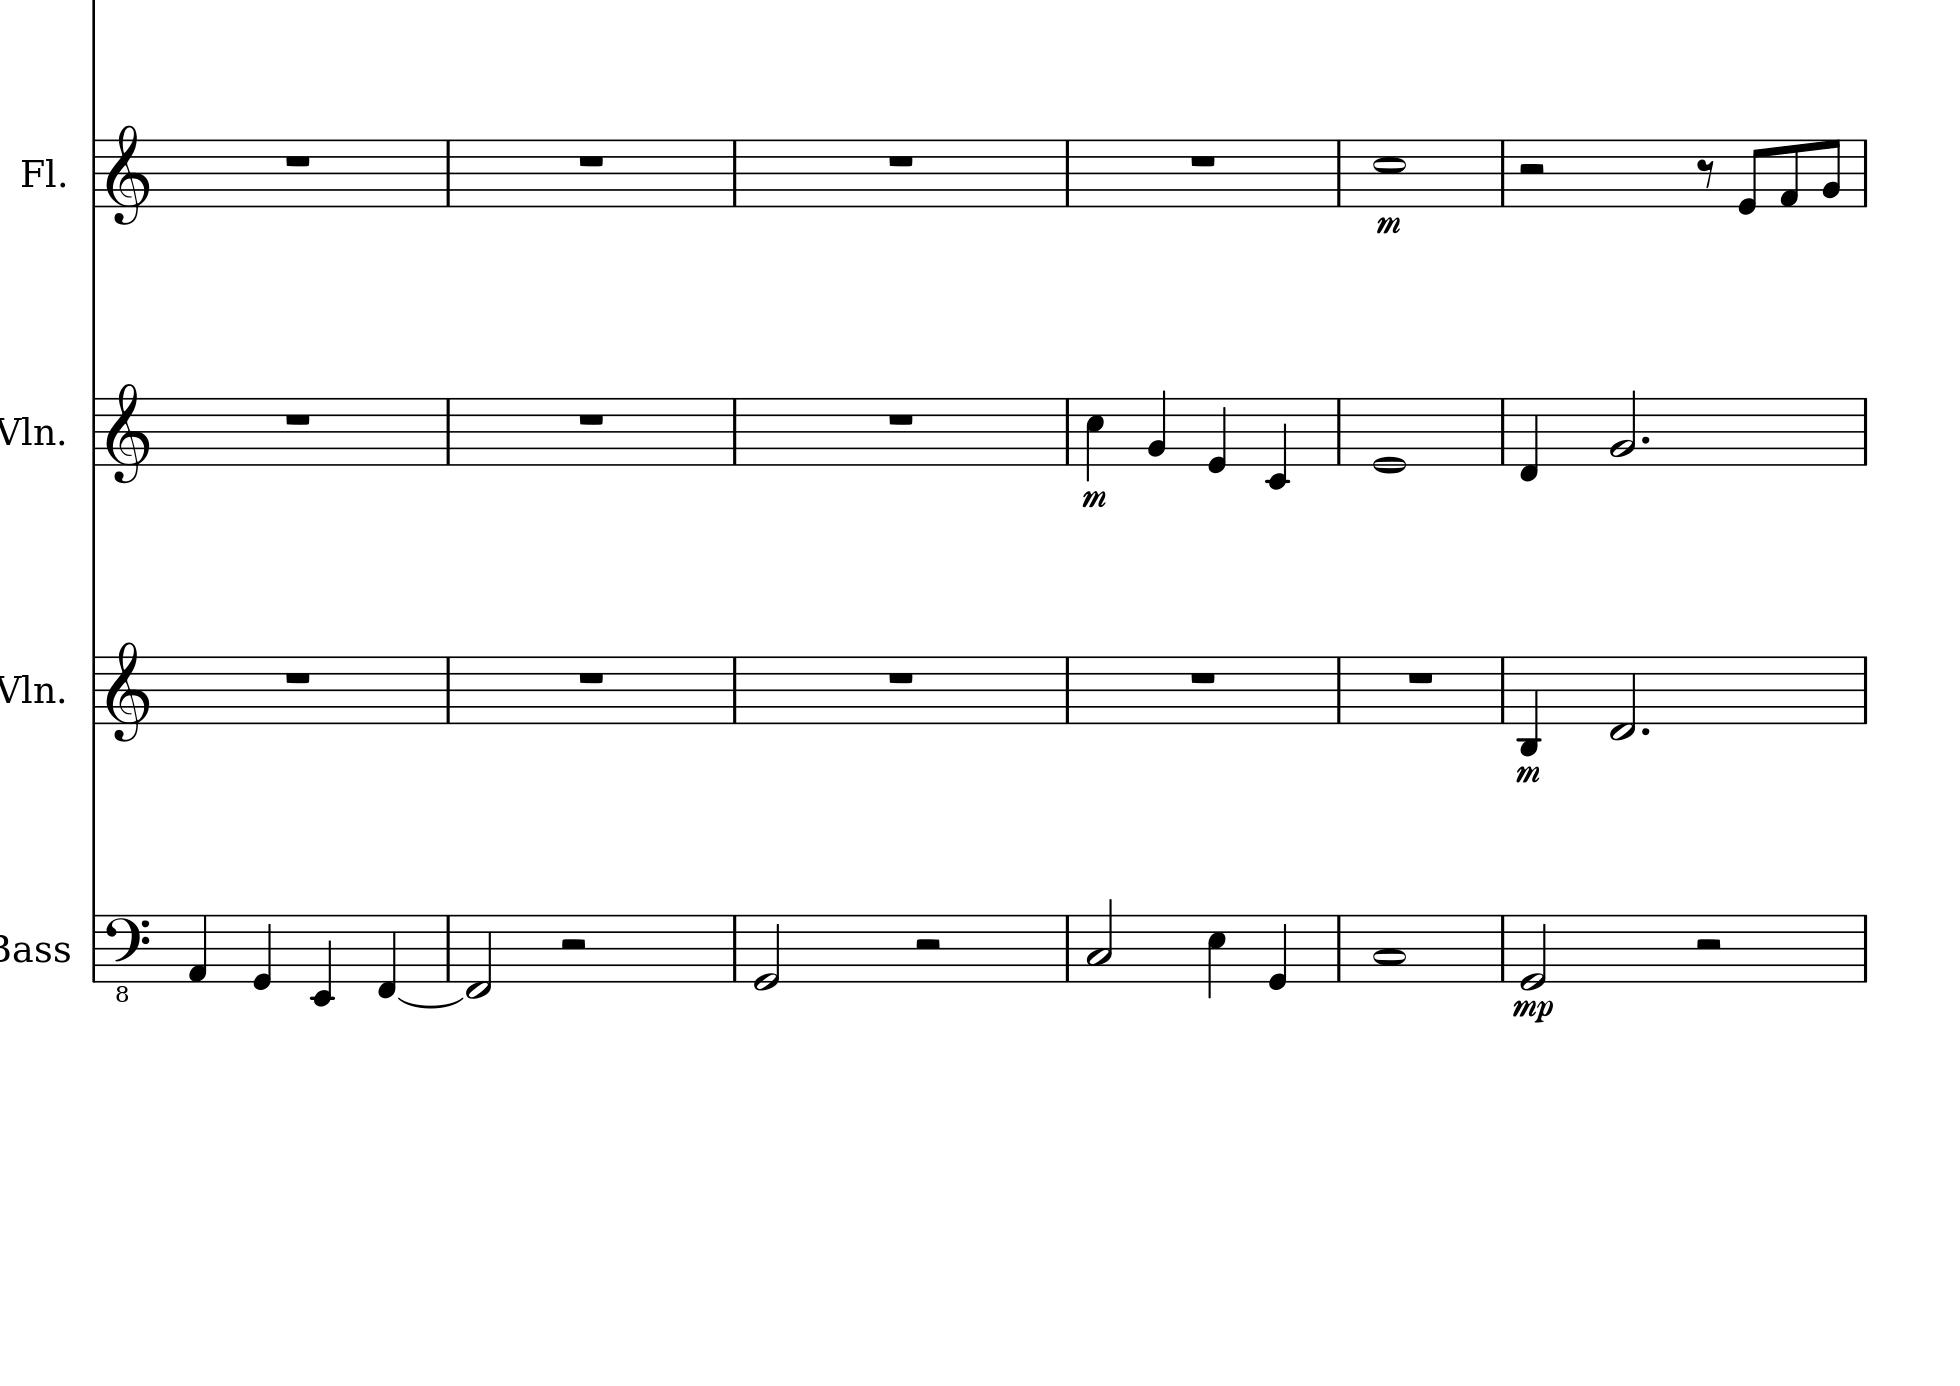1_0: (1371, 393, 1408, 475)
1_3: (1372, 910, 1407, 984)
1_5: (1372, 136, 1407, 208)
2_-1: (1608, 652, 1638, 742), (463, 913, 493, 999)
2_0: (751, 912, 781, 991), (1519, 912, 1548, 991)
2_2: (1608, 388, 1638, 466)
2_3: (1086, 897, 1114, 982)
4_-1: (1518, 394, 1540, 483), (375, 910, 397, 999)
4_-2: (1264, 394, 1290, 490), (309, 912, 334, 1006)
4_-3: (1518, 652, 1542, 757)
4_0: (1206, 394, 1230, 475), (250, 912, 274, 991), (1267, 912, 1290, 991)
4_1: (186, 912, 208, 984)
4_2: (1146, 387, 1170, 466)
4_5: (1206, 912, 1228, 999), (1084, 394, 1105, 484)
8_0: (1737, 136, 1764, 217)
8_1: (1779, 136, 1800, 208)
8_2: (1821, 136, 1842, 208)
Bass: (1, 927, 73, 970)
Fl: (16, 151, 60, 195)
Gclef: (103, 637, 151, 745), (103, 379, 151, 486), (103, 121, 151, 226)
Lower_Fclef: (103, 912, 151, 1003)
Rests1: (280, 148, 316, 169), (1404, 667, 1437, 687), (280, 409, 315, 427), (574, 151, 607, 169), (883, 151, 916, 169), (574, 409, 607, 427), (883, 409, 916, 427), (280, 667, 313, 685), (574, 667, 607, 685), (883, 667, 916, 685), (1188, 151, 1219, 169), (1188, 667, 1219, 685)
Rests2: (556, 934, 589, 955), (1692, 934, 1726, 954), (1515, 160, 1548, 178), (912, 936, 943, 952)
Rests8: (1695, 156, 1717, 190)
Single_barline: (1494, 139, 1512, 207), (1857, 655, 1875, 723), (1059, 397, 1077, 463), (1857, 397, 1875, 463), (1857, 913, 1873, 981), (1330, 915, 1347, 982), (439, 139, 456, 205), (1059, 139, 1075, 205), (439, 397, 456, 463), (1495, 397, 1512, 463), (439, 657, 456, 723), (1059, 657, 1075, 723), (1858, 139, 1873, 208), (87, 655, 102, 724), (87, 139, 102, 207), (1332, 139, 1347, 207), (1332, 397, 1347, 465), (727, 915, 742, 982), (1495, 915, 1510, 982), (727, 139, 742, 205), (727, 397, 742, 463), (727, 657, 742, 723), (1332, 657, 1347, 723), (1060, 915, 1075, 981), (87, 397, 100, 466), (87, 913, 100, 981), (1497, 657, 1510, 723)
Slur: (397, 996, 463, 1008)
Vln: (1, 406, 57, 454), (1, 664, 57, 712)
dot: (1638, 433, 1651, 445), (1641, 723, 1653, 736)
m: (1078, 486, 1111, 513), (1515, 762, 1542, 784), (1375, 214, 1402, 235)
mp: (1512, 994, 1557, 1024)
